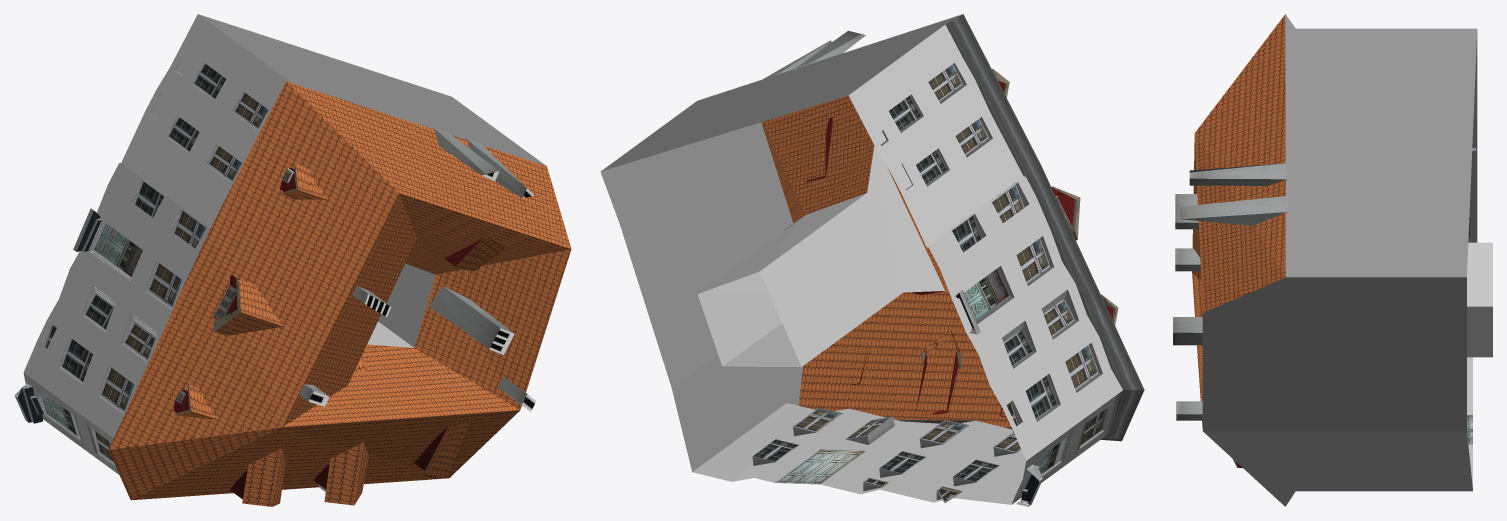
File: Lai_20-origo.obj
3 renders of one model, left to right at view 1: azimuth 30°, elevation 25°; view 2: azimuth 150°, elevation 25°; view 3: azimuth 270°, elevation 25°, orthographic. The views are drawn at different scales.
Visible parts, largest first — view 1: Lai_20; view 2: Lai_20; view 3: Lai_20.
Boxes of the visible parts, x1=… form: Lai_20: x1=14, y1=14, x2=571, y2=506; Lai_20: x1=600, y1=14, x2=1144, y2=506; Lai_20: x1=1173, y1=14, x2=1492, y2=506.
Size of the model in its own units: 24.69 by 23.5 by 16.33.
